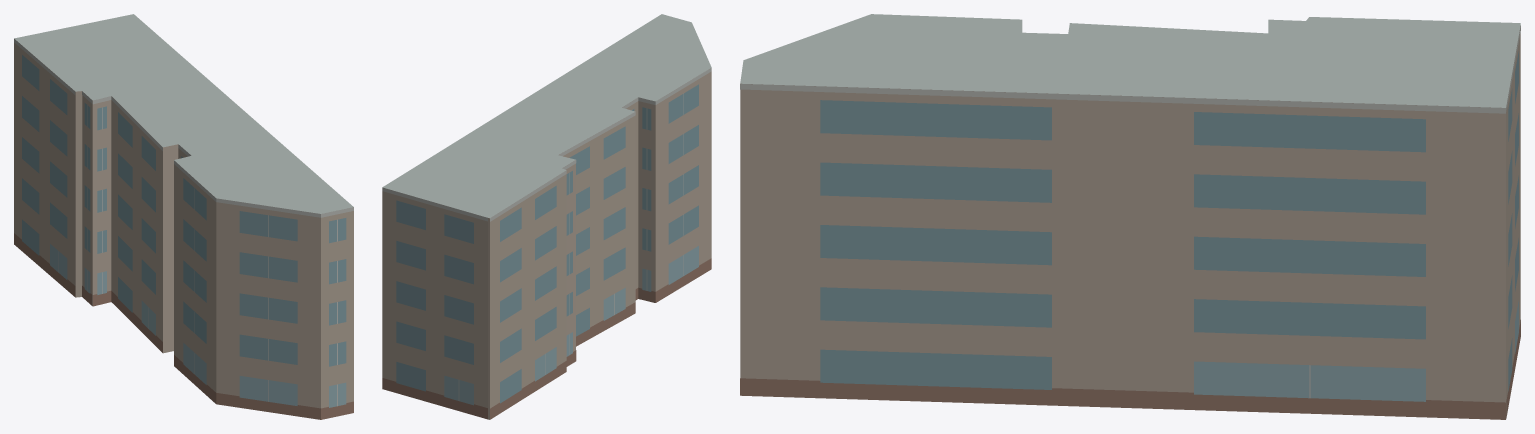
Rendered from survey-upis-33040239.glb.
3 views of the same model, side by side, from view 1: azimuth 30°, elevation 25°; view 2: azimuth 150°, elevation 25°; view 3: azimuth 270°, elevation 25° (orthographic). The views are drawn at different scales.
Visible parts, largest first — view 1: survey-upis-33040239.tmp; view 2: survey-upis-33040239.tmp; view 3: survey-upis-33040239.tmp.
Part boxes in pixels (x1,y1,x2,y2): survey-upis-33040239.tmp: (14,14,353,419); survey-upis-33040239.tmp: (382,14,711,419); survey-upis-33040239.tmp: (740,14,1520,419).
Bounding box in the file's own units: 8.53 × 13.2 × 29.95.
